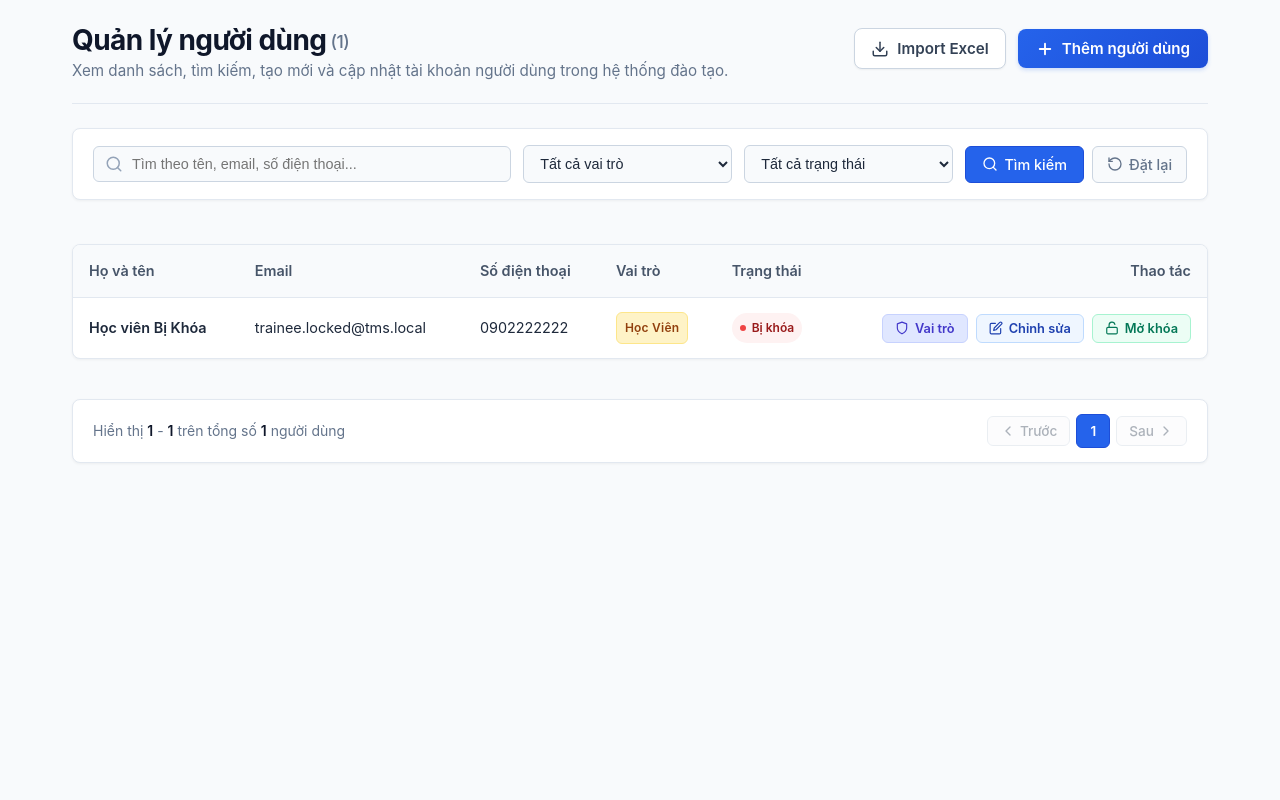
Test: SCRUM-110: Kiểm thử tổng thể giao diện khóa và mở khóa tài khoản (UI Overall Test Matrix) › C. Unlock Operation Matrix › 8. thực hiện mở khóa tài khoản thành công: API POST, thông báo thành công và cập nhật badge
The width and height of the screenshot is (1280, 800).
Click the button with test id "btn-unlock-user-u-trainee-2": click(1141, 328) [1092,314,1191,343]
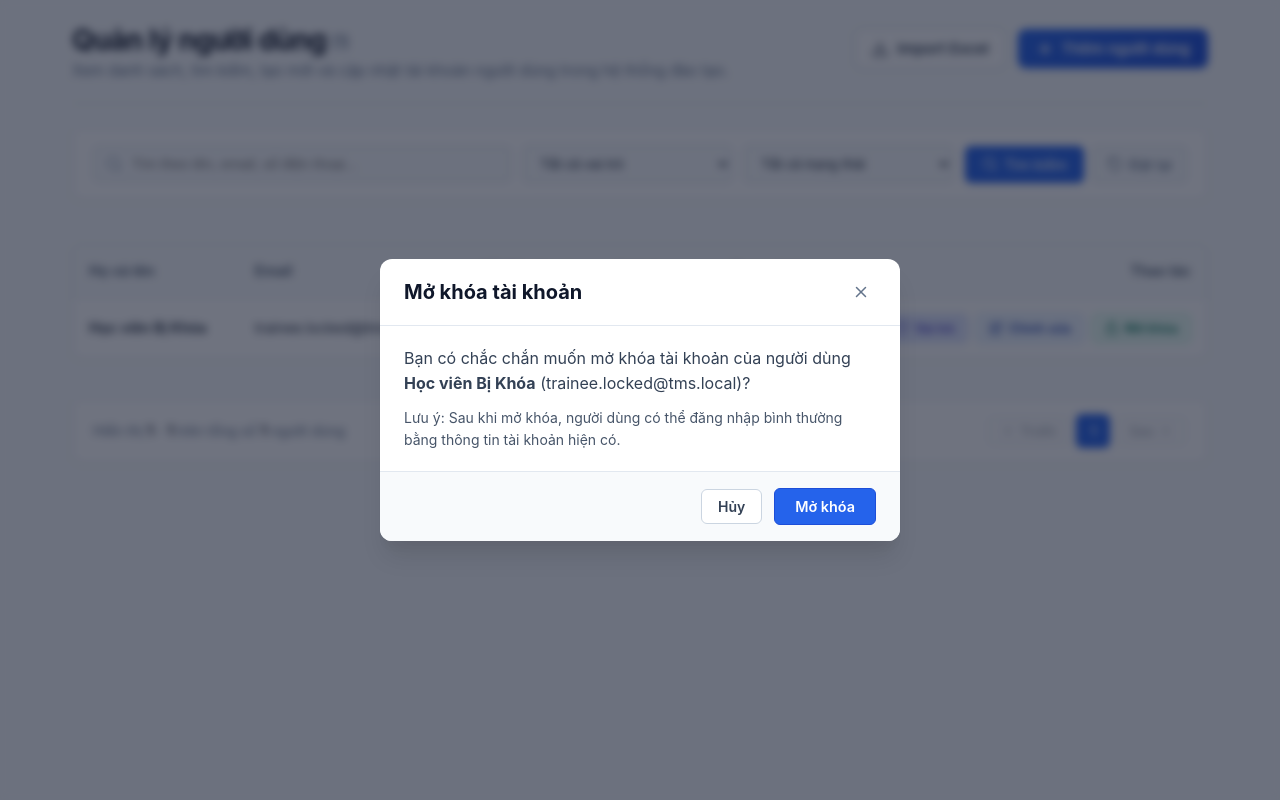
Click the button with test id "btn-confirm-unlock": click(825, 507) [774,488,876,526]
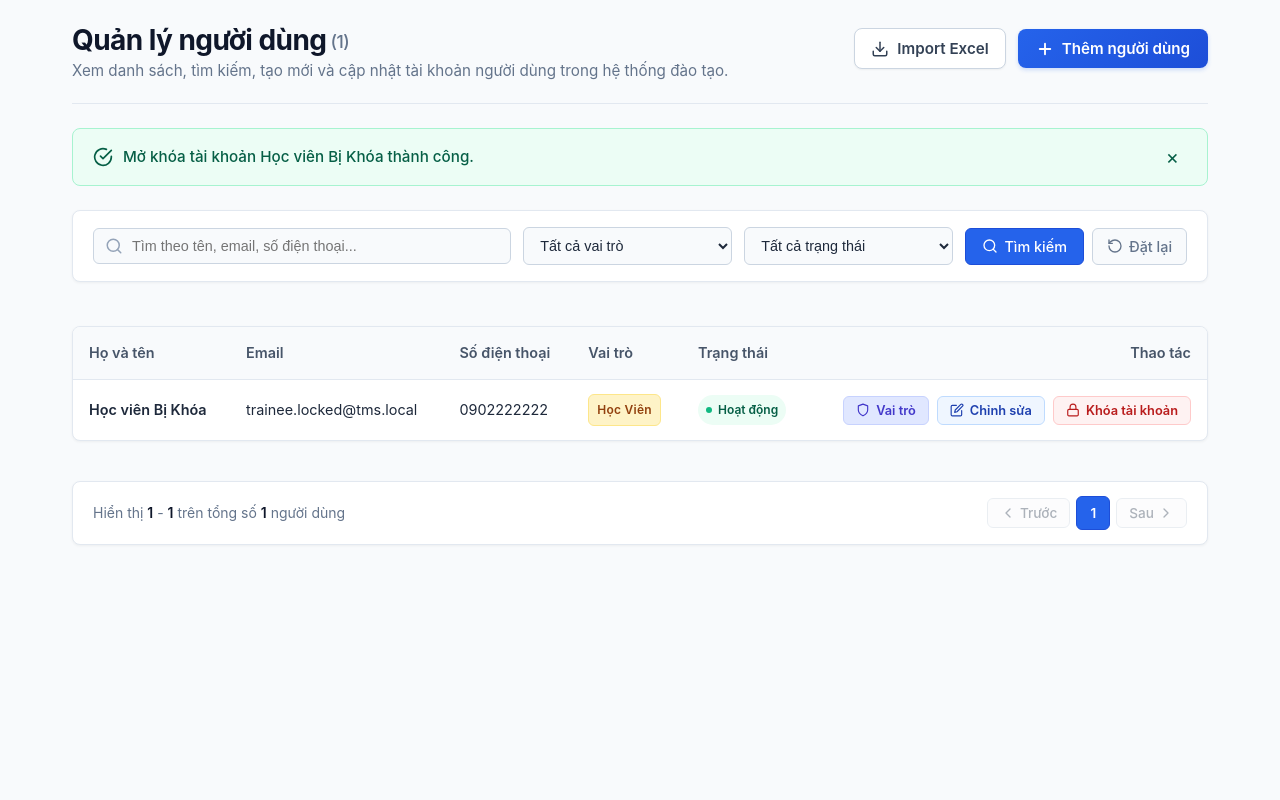
Expected: the dialog with test id "account-lock-modal" is gone
Expected: the message "Mở khóa tài khoản Học viên Bị Khóa thành công. ×" is shown, [72,128,1208,186]
Expected: the text with test id "user-success-text" shows "Mở khóa tài khoản Học viên Bị Khóa thành công", [123,147,474,166]
